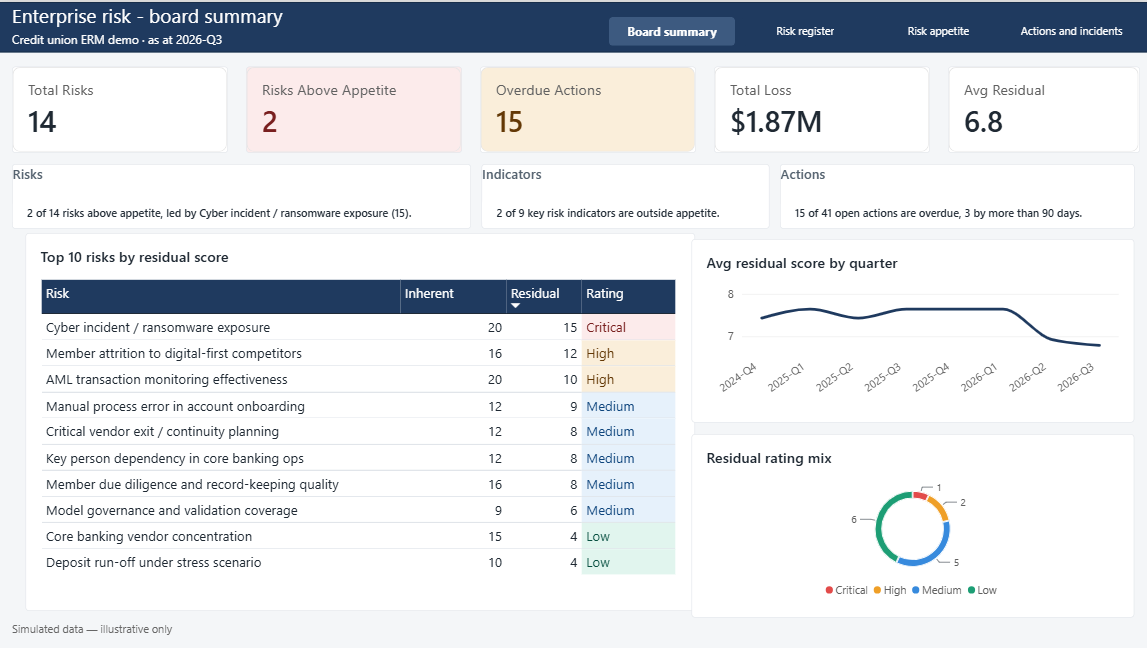

What the dashboard file says about the page in this screenshot:
{"tool":"powerbi","page":{"name":"Board summary","canvas":[1280,720],"ordinal":0},"visuals":[{"type":"shape","box":[0,0,1280,56],"z":0},{"type":"textbox","box":[16,0,360,48],"z":1000},{"type":"textbox","box":[16,32,352,48],"z":2000},{"type":"cardVisual","fields":{"Data":["_Measures.Total Risks"]},"box":[16,72,240,96],"z":3000},{"type":"cardVisual","fields":{"Data":["_Measures.Risks Above Appetite"]},"box":[276,72,240,96],"z":4000},{"type":"cardVisual","fields":{"Data":["_Measures.Overdue Actions"]},"box":[536,72,240,96],"z":5000},{"type":"cardVisual","fields":{"Data":["_Measures.Total Loss"]},"box":[796,72,240,96],"z":6000},{"type":"cardVisual","fields":{"Data":["_Measures.Avg Residual"]},"box":[1056,72,213,96],"z":7000},{"type":"tableEx","title":"Top 10 risks by residual score","fields":{"Values":["public dim_risk.risk_title","_Measures.Inherent Score","_Measures.Residual Score","public vw_risk_quarter.residual_rating"]},"box":[32,256,744,420],"z":8000},{"type":"lineChart","title":"Avg residual score by quarter","fields":{"Category":["public dim_quarter.quarter"],"Y":["_Measures.Avg Residual"]},"box":[772,264,492,204],"z":9000},{"type":"donutChart","title":"Residual rating mix","fields":{"Category":["public vw_risk_quarter.residual_rating"],"Y":["_Measures.Total Risks"]},"box":[772,480,492,204],"z":10000},{"type":"textbox","box":[16,688,224,16],"z":11000},{"type":"pageNavigator","box":[680,16,584,32],"z":12000},{"type":"cardVisual","title":"Indicators","fields":{"Data":["_Measures.Key Message KRI"]},"box":[538,180,320,72],"z":13000},{"type":"cardVisual","title":"Actions","fields":{"Data":["_Measures.Key Message Actions"]},"box":[870,180,394,72],"z":14000},{"type":"cardVisual","title":"Risks","fields":{"Data":["_Measures.Key Message Risk"]},"box":[16,180,510,72],"z":15000}]}

Visuals, with their boxes in screenshot pixels (x1, y1, x2, y2), scaled from the page's 1280x720 canvas onto the 1147x648 screenshot:
shape: [x1=0, y1=0, x2=1146, y2=50]
textbox: [x1=14, y1=0, x2=337, y2=43]
textbox: [x1=14, y1=29, x2=330, y2=72]
cardVisual - _Measures.Total Risks: [x1=14, y1=65, x2=229, y2=151]
cardVisual - _Measures.Risks Above Appetite: [x1=247, y1=65, x2=462, y2=151]
cardVisual - _Measures.Overdue Actions: [x1=480, y1=65, x2=695, y2=151]
cardVisual - _Measures.Total Loss: [x1=713, y1=65, x2=928, y2=151]
cardVisual - _Measures.Avg Residual: [x1=946, y1=65, x2=1137, y2=151]
"Top 10 risks by residual score" tableEx: [x1=29, y1=230, x2=695, y2=608]
"Avg residual score by quarter" lineChart: [x1=692, y1=238, x2=1133, y2=421]
"Residual rating mix" donutChart: [x1=692, y1=432, x2=1133, y2=616]
textbox: [x1=14, y1=619, x2=215, y2=634]
pageNavigator: [x1=609, y1=14, x2=1133, y2=43]
"Indicators" cardVisual: [x1=482, y1=162, x2=769, y2=227]
"Actions" cardVisual: [x1=780, y1=162, x2=1133, y2=227]
"Risks" cardVisual: [x1=14, y1=162, x2=471, y2=227]
